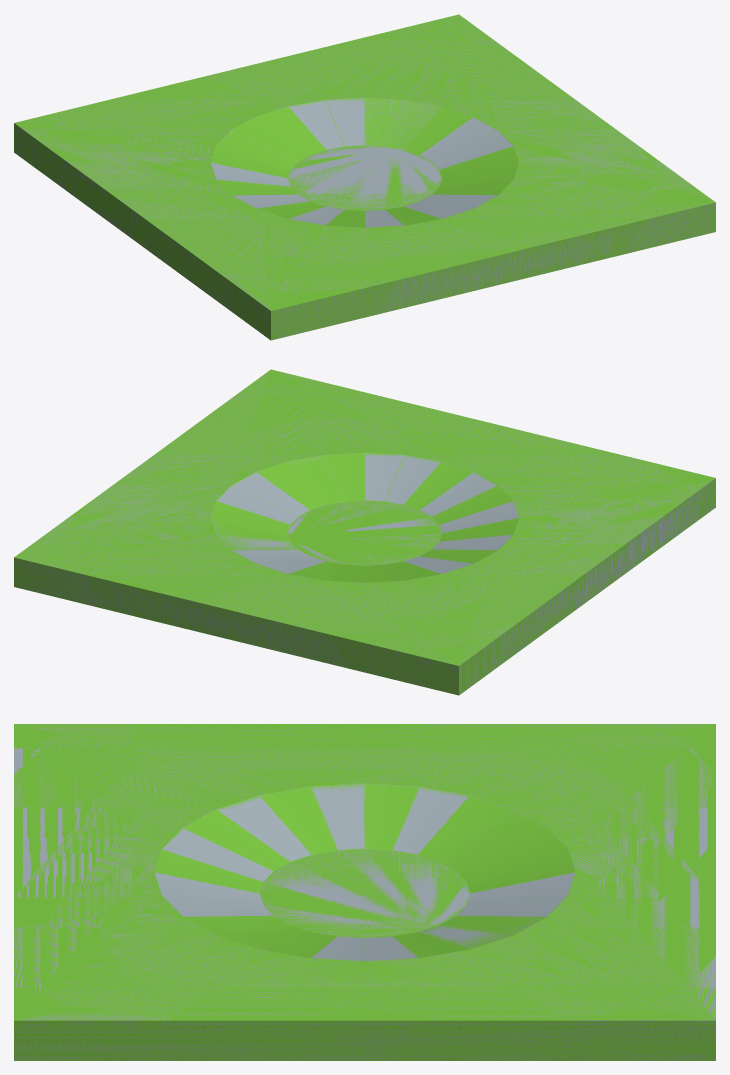
File: Bump_down_01.obj
The picture shows the model from 3 angles, top to bottom: view 1: azimuth 30°, elevation 25°; view 2: azimuth 150°, elevation 25°; view 3: azimuth 270°, elevation 25°; orthographic projection. The views are drawn at different scales.
Visible parts, largest first — view 1: Mesh1 Bump_down Model; view 2: Mesh1 Bump_down Model; view 3: Mesh1 Bump_down Model.
Boxes of the visible parts, left/top/right/bottom form: Mesh1 Bump_down Model: left=14, top=14, right=715, bottom=340; Mesh1 Bump_down Model: left=14, top=369, right=715, bottom=695; Mesh1 Bump_down Model: left=14, top=724, right=715, bottom=1060.
Bounding box in the file's own units: 3 × 0.19 × 3.
